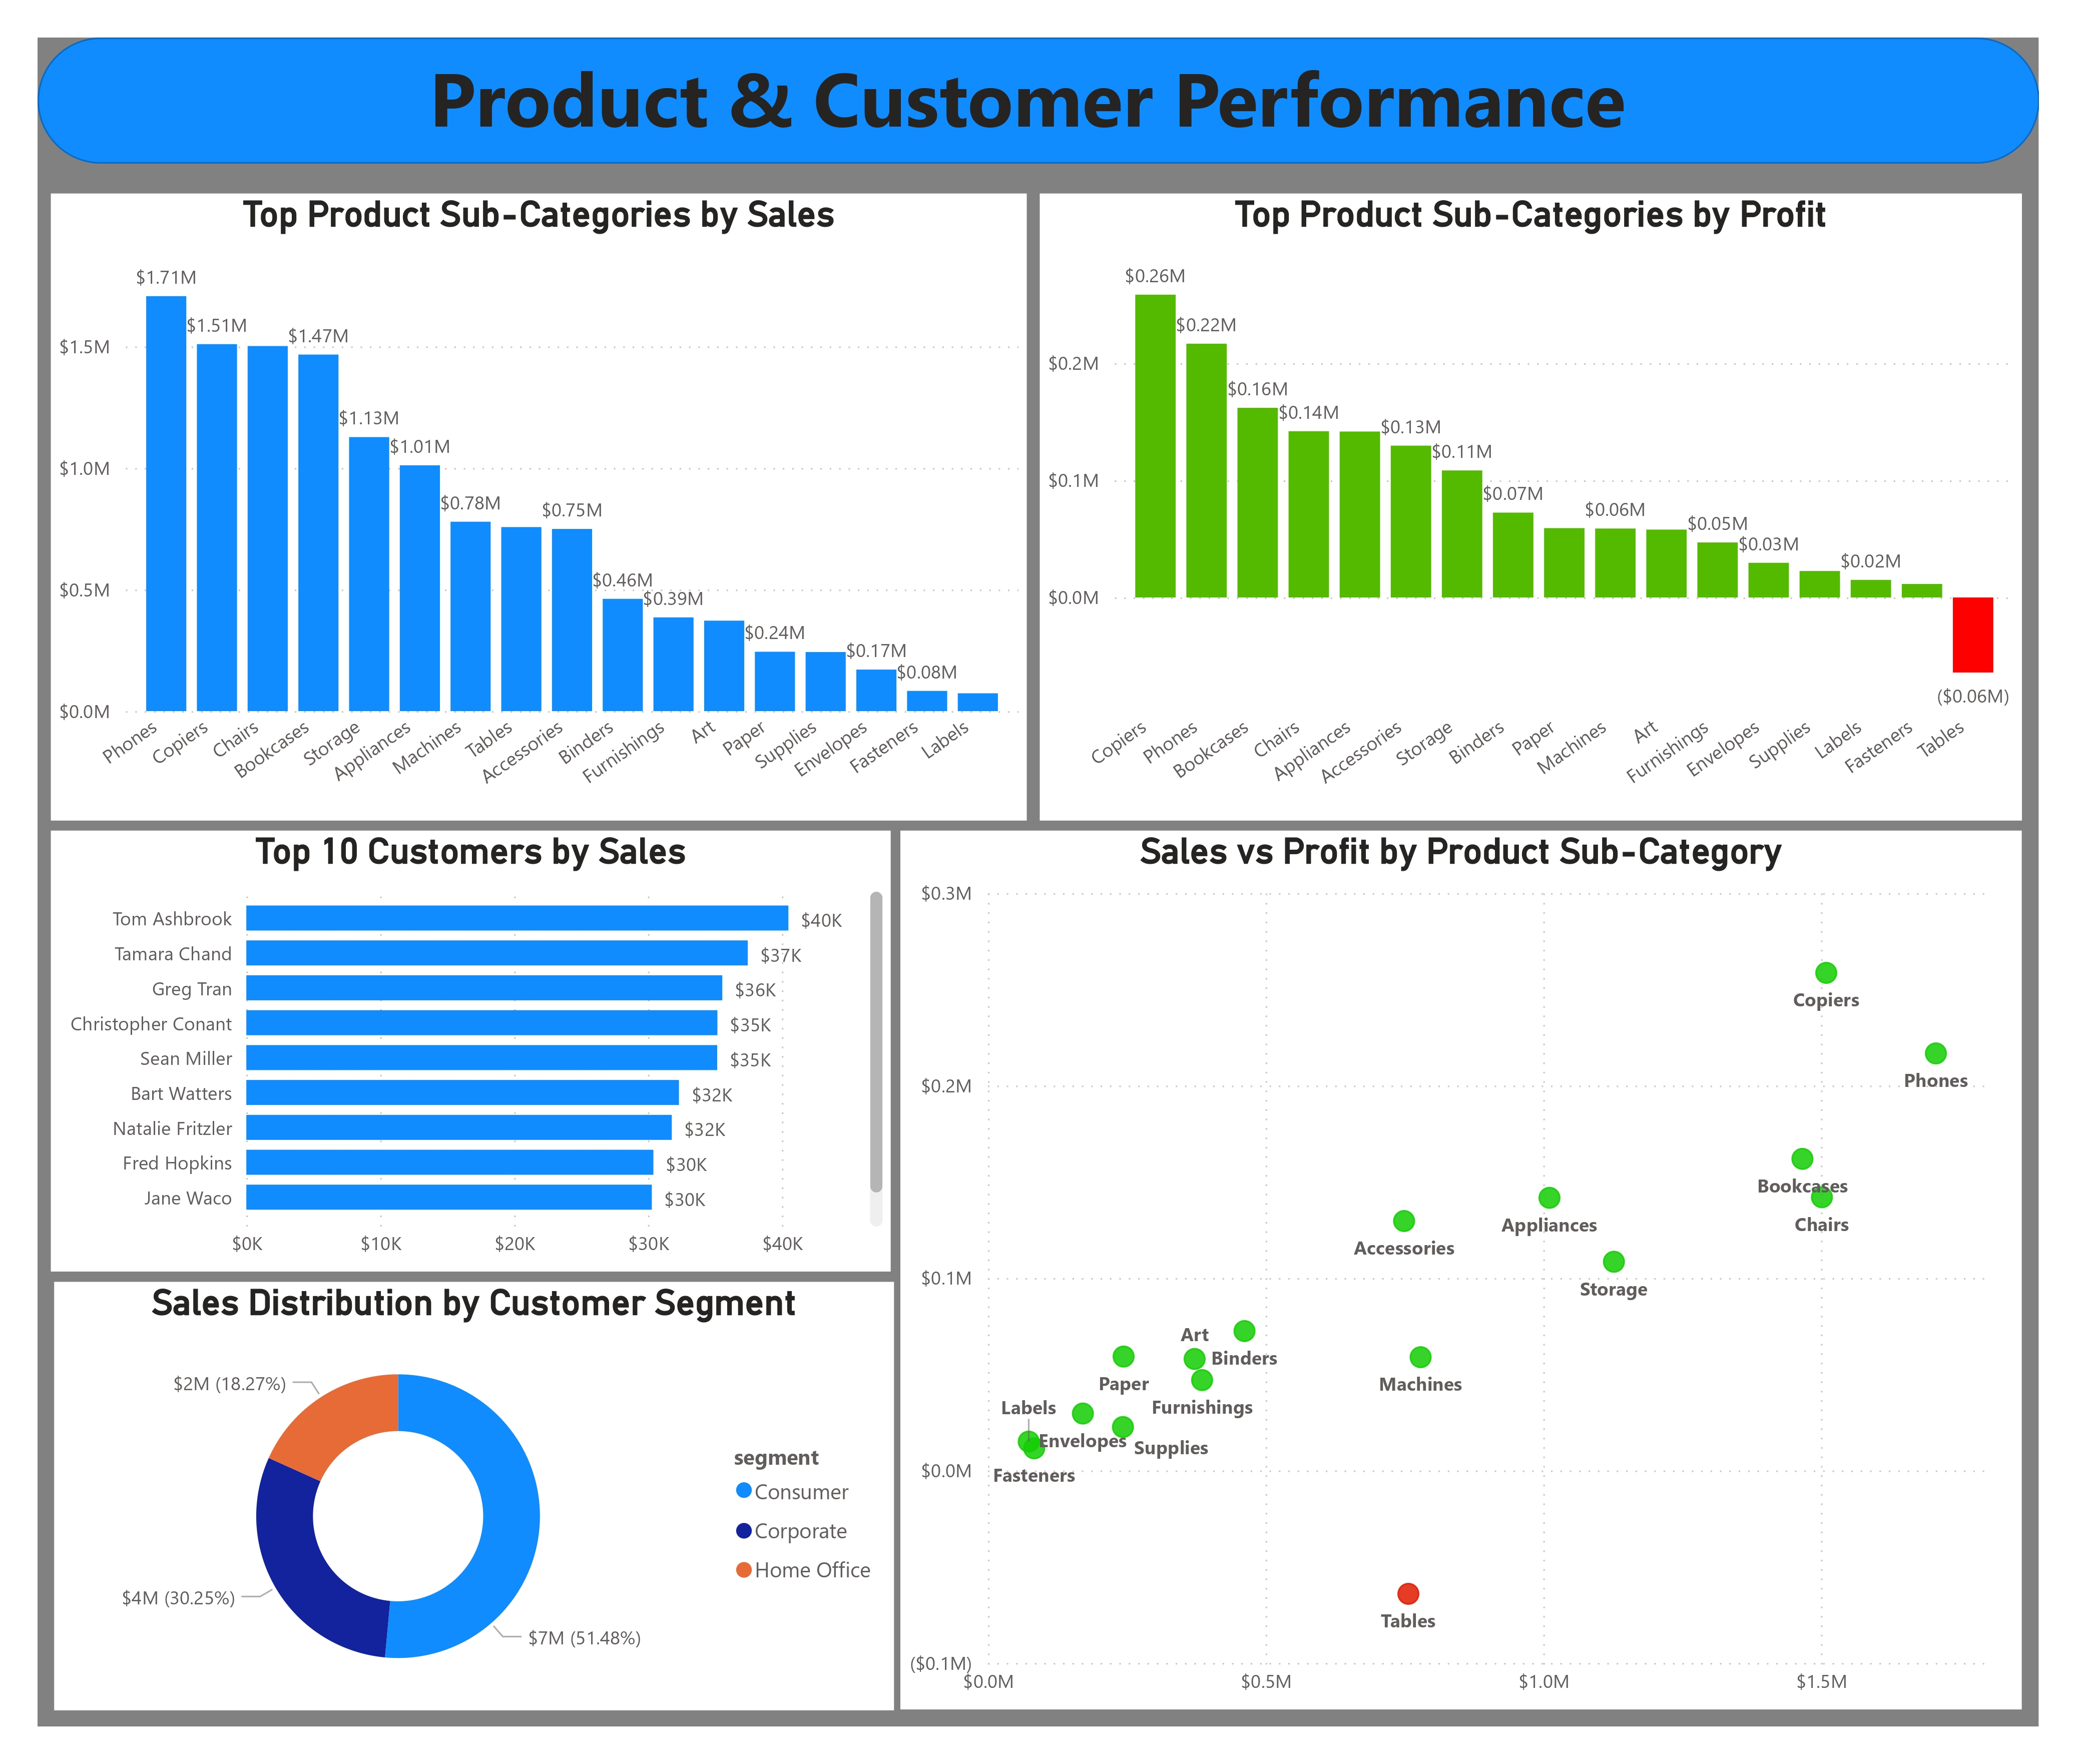

The dashboard page shown, as its layout file describes it:
{"tool":"powerbi","page":{"name":"Products","canvas":[1280,1080],"ordinal":1},"visuals":[{"type":"shape","box":[0,0,1280,80.6],"z":0},{"type":"textbox","box":[95.7,0,1075.1,80.6],"z":1000},{"type":"clusteredColumnChart","title":"Top Product Sub-Categories by Sales","fields":{"Category":["global-superstore-clean.sub_category"],"Y":["Sum(global-superstore-clean.sales)"]},"box":[8.5,99.7,623.8,401],"z":2000},{"type":"clusteredColumnChart","title":"Top Product Sub-Categories by Profit","fields":{"Category":["global-superstore-clean.sub_category"],"Y":["Sum(global-superstore-clean.Total Profit)"]},"box":[640.8,99.7,628.1,401],"z":3000},{"type":"donutChart","title":"Sales Distribution by Customer Segment","fields":{"Category":["global-superstore-clean.segment"],"Y":["Sum(global-superstore-clean.sales)"]},"box":[10.6,795.7,536.8,273.7],"z":4000},{"type":"clusteredBarChart","title":"Top 10 Customers by Sales","fields":{"Category":["global-superstore-clean.customer_name"],"Y":["Sum(global-superstore-clean.sales)"]},"box":[8.5,507.1,536.8,282.2],"z":5000},{"type":"scatterChart","title":"Sales vs Profit by Product Sub-Category","fields":{"Category":["global-superstore-clean.sub_category"],"X":["Sum(global-superstore-clean.sales)"],"Y":["Sum(global-superstore-clean.profit)"]},"box":[551.7,507.1,717.2,562.3],"z":6000}]}

Visuals, with their boxes on the page's 1280x1080 design canvas (x1, y1, x2, y2). These are canvas units, not pixel positions in the 2077x1764 screenshot, which may show the page scaled, cropped or inside an application window:
shape: detection(0, 0, 1280, 81)
textbox: detection(96, 0, 1171, 81)
"Top Product Sub-Categories by Sales" clusteredColumnChart: detection(8, 100, 632, 501)
"Top Product Sub-Categories by Profit" clusteredColumnChart: detection(641, 100, 1269, 501)
"Sales Distribution by Customer Segment" donutChart: detection(11, 796, 547, 1069)
"Top 10 Customers by Sales" clusteredBarChart: detection(8, 507, 545, 789)
"Sales vs Profit by Product Sub-Category" scatterChart: detection(552, 507, 1269, 1069)
